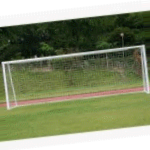goals: (1, 44, 150, 110)
